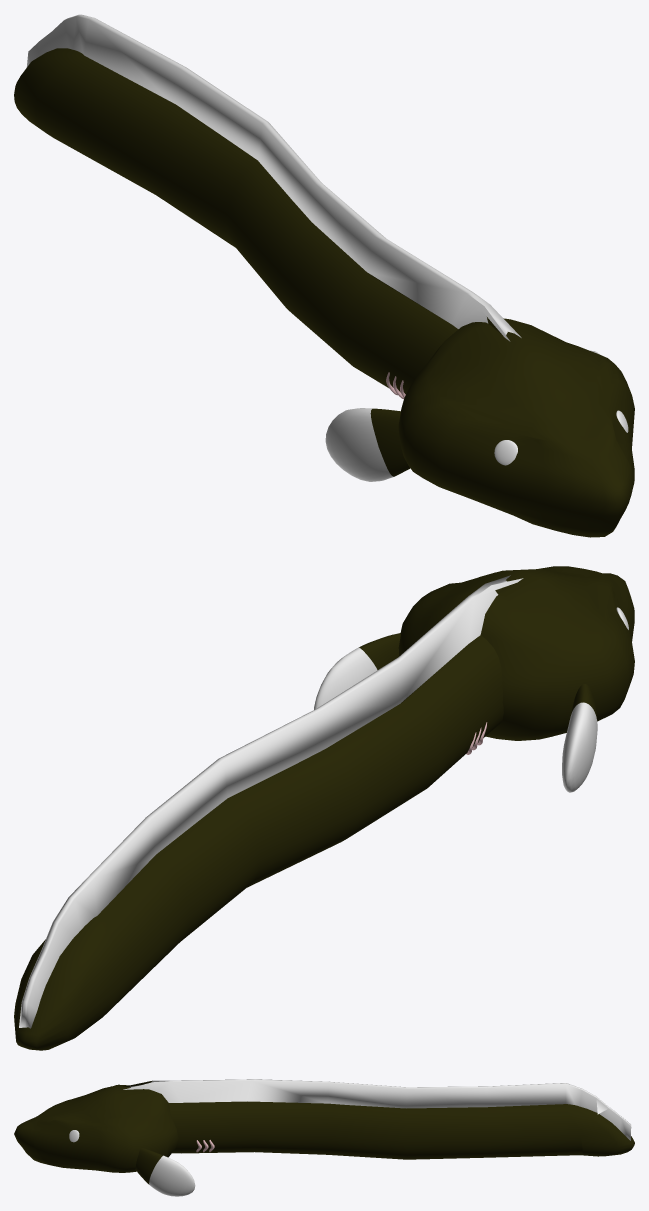
File: Eel_Infinity_City.fbx
3 renders of one model, top to bottom at view 1: azimuth 30°, elevation 25°; view 2: azimuth 150°, elevation 25°; view 3: azimuth 270°, elevation 25°, orthographic. The views are drawn at different scales.
Parts seen in each view (by area): view 1: Cylinder; view 2: Cylinder; view 3: Cylinder.
Part boxes in pixels (<box>): Cylinder: <box>14,14,634,537</box>; Cylinder: <box>14,566,634,1050</box>; Cylinder: <box>14,1079,634,1196</box>.
Size of the model in its own units: 328 by 194 by 1298.
